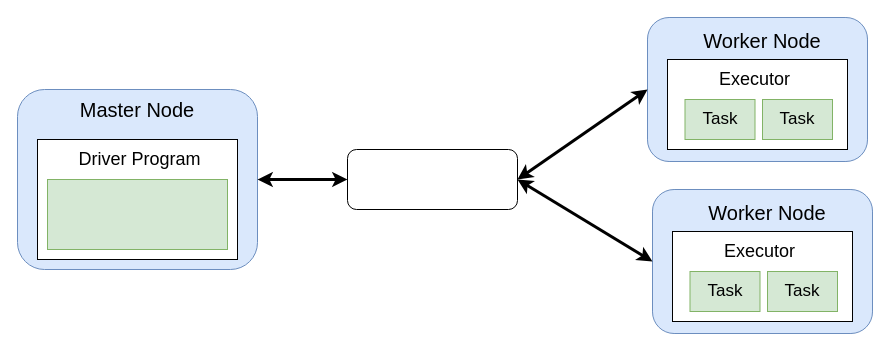
This 890x351 diagram has some shape labels left out. The shapes that lost their labels are listed below. From the top down, each one's box as (x1, y1, x2, y2) in pixels, then its label:
(346, 148, 518, 210): Cluster Manager
(46, 178, 228, 250): Spark Context
